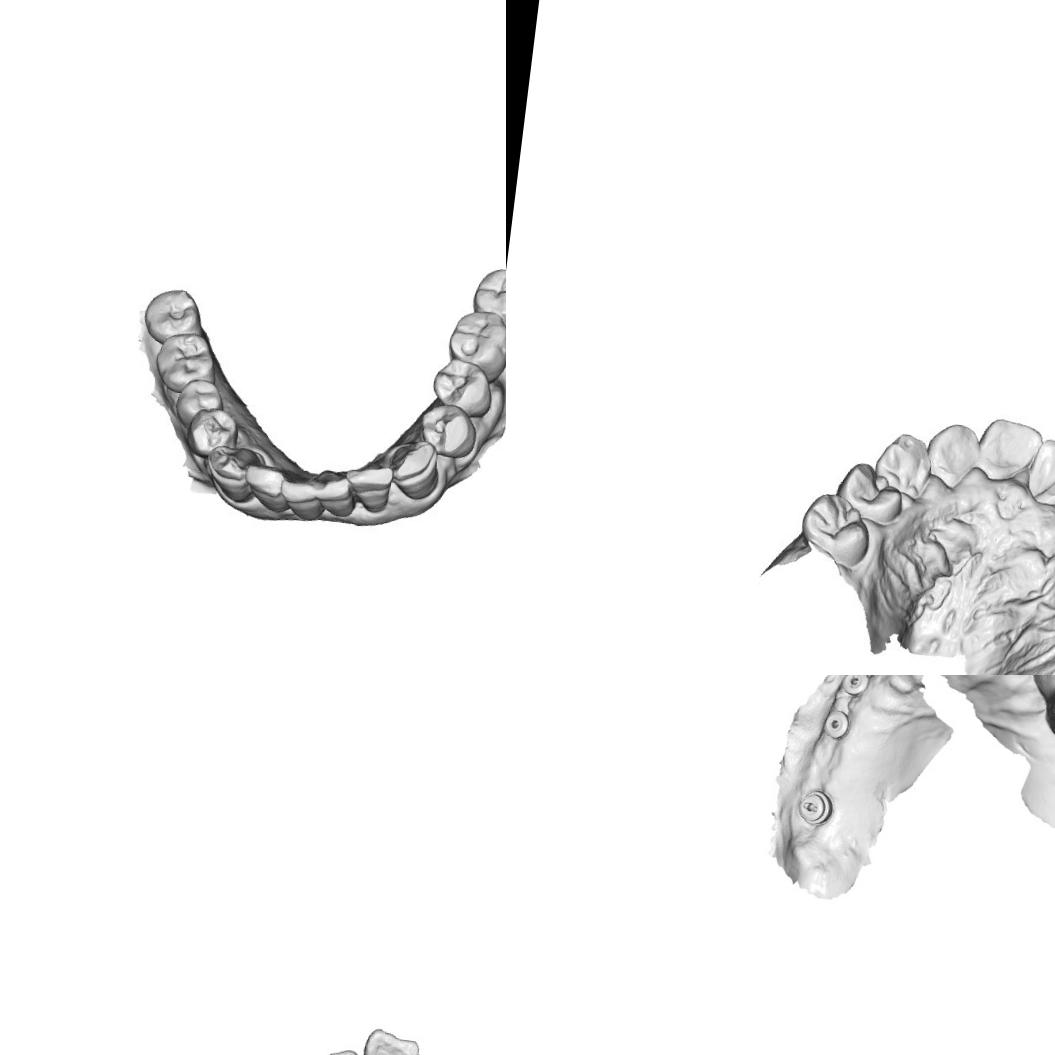canine: (876, 428, 936, 495), (389, 438, 444, 499), (206, 444, 261, 499)
implant: (820, 708, 852, 742)
implant_minus: (794, 788, 836, 828), (838, 675, 870, 698)
incisor: (973, 413, 1044, 489), (925, 420, 984, 490), (311, 467, 363, 524), (350, 461, 394, 512), (242, 466, 290, 512), (357, 1025, 421, 1055), (1028, 436, 1055, 507), (284, 480, 322, 524)
molar: (443, 305, 506, 379), (139, 284, 204, 346), (152, 330, 216, 388), (470, 264, 506, 336)
premolar: (793, 488, 878, 566), (833, 455, 911, 528), (418, 402, 484, 462), (182, 405, 238, 464), (432, 359, 492, 412), (174, 374, 221, 426)
